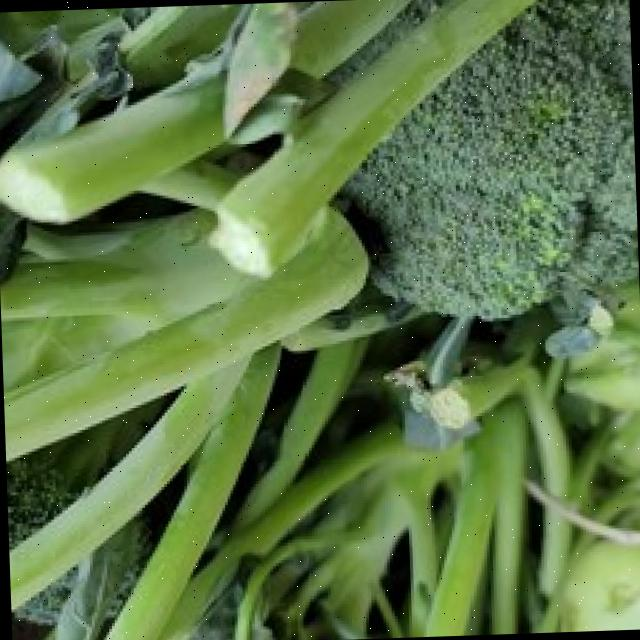Broccoli: (347, 0, 639, 318), (348, 0, 639, 318), (352, 0, 440, 62)
